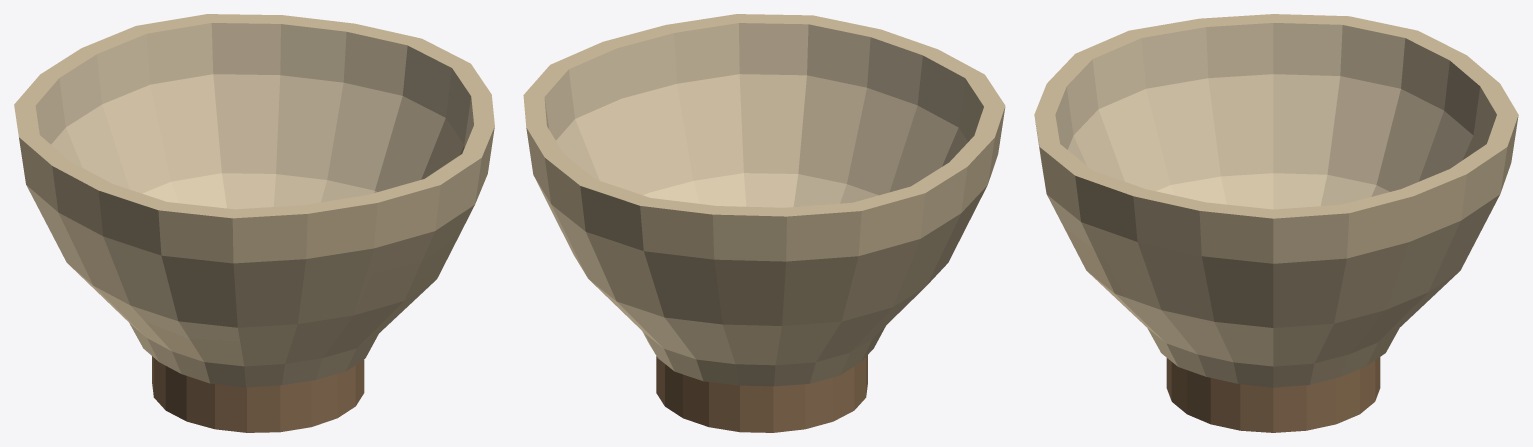
Rendered from antique-hagi-bowl.glb.
The picture shows the model from 3 angles, left to right: view 1: azimuth 30°, elevation 25°; view 2: azimuth 150°, elevation 25°; view 3: azimuth 270°, elevation 25°; orthographic projection.
Visible parts, largest first — view 1: antique-hagi-bowl/vessel-7, antique-hagi-bowl/vessel-3, antique-hagi-bowl/vessel-6, antique-hagi-bowl/vessel-4, antique-hagi-bowl/vessel-5, antique-hagi-bowl/vessel-2, antique-hagi-bowl/ring-foot-1, antique-hagi-bowl/vessel-8, antique-hagi-bowl/vessel-1; view 2: antique-hagi-bowl/vessel-7, antique-hagi-bowl/vessel-3, antique-hagi-bowl/vessel-6, antique-hagi-bowl/vessel-4, antique-hagi-bowl/vessel-5, antique-hagi-bowl/ring-foot-1, antique-hagi-bowl/vessel-2, antique-hagi-bowl/vessel-8, antique-hagi-bowl/vessel-1; view 3: antique-hagi-bowl/vessel-7, antique-hagi-bowl/vessel-3, antique-hagi-bowl/vessel-6, antique-hagi-bowl/vessel-4, antique-hagi-bowl/vessel-5, antique-hagi-bowl/vessel-2, antique-hagi-bowl/ring-foot-1, antique-hagi-bowl/vessel-8, antique-hagi-bowl/vessel-1.
Boxes of the visible parts, x1,y1,x2,y2 form: antique-hagi-bowl/vessel-7: (51, 74, 464, 193); antique-hagi-bowl/vessel-3: (26, 185, 474, 327); antique-hagi-bowl/vessel-6: (35, 23, 473, 147); antique-hagi-bowl/vessel-4: (19, 127, 494, 263); antique-hagi-bowl/vessel-5: (14, 14, 494, 218); antique-hagi-bowl/vessel-2: (69, 265, 435, 366); antique-hagi-bowl/ring-foot-1: (152, 356, 364, 432); antique-hagi-bowl/vessel-8: (142, 173, 377, 209); antique-hagi-bowl/vessel-1: (129, 323, 378, 387); antique-hagi-bowl/vessel-7: (556, 74, 967, 195); antique-hagi-bowl/vessel-3: (533, 175, 987, 325); antique-hagi-bowl/vessel-6: (544, 23, 983, 141); antique-hagi-bowl/vessel-4: (526, 107, 1005, 261); antique-hagi-bowl/vessel-5: (523, 14, 1005, 216); antique-hagi-bowl/ring-foot-1: (656, 355, 867, 432); antique-hagi-bowl/vessel-2: (590, 280, 924, 365); antique-hagi-bowl/vessel-8: (643, 173, 878, 207); antique-hagi-bowl/vessel-1: (642, 326, 885, 386); antique-hagi-bowl/vessel-7: (1068, 74, 1480, 191); antique-hagi-bowl/vessel-3: (1047, 194, 1499, 327); antique-hagi-bowl/vessel-6: (1055, 23, 1496, 149); antique-hagi-bowl/vessel-4: (1035, 115, 1518, 263); antique-hagi-bowl/vessel-5: (1034, 14, 1518, 218); antique-hagi-bowl/vessel-2: (1088, 271, 1459, 366); antique-hagi-bowl/ring-foot-1: (1166, 357, 1380, 432); antique-hagi-bowl/vessel-8: (1156, 173, 1389, 209); antique-hagi-bowl/vessel-1: (1147, 328, 1399, 387).
Size of the model in its own units: 0.5 by 0.311 by 0.5.
3 materials, 3 textured.
